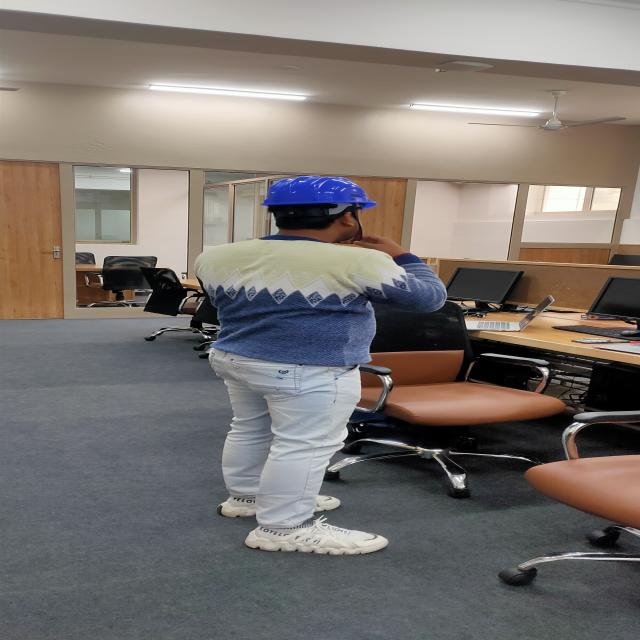no jacket: (194, 174, 442, 556)
